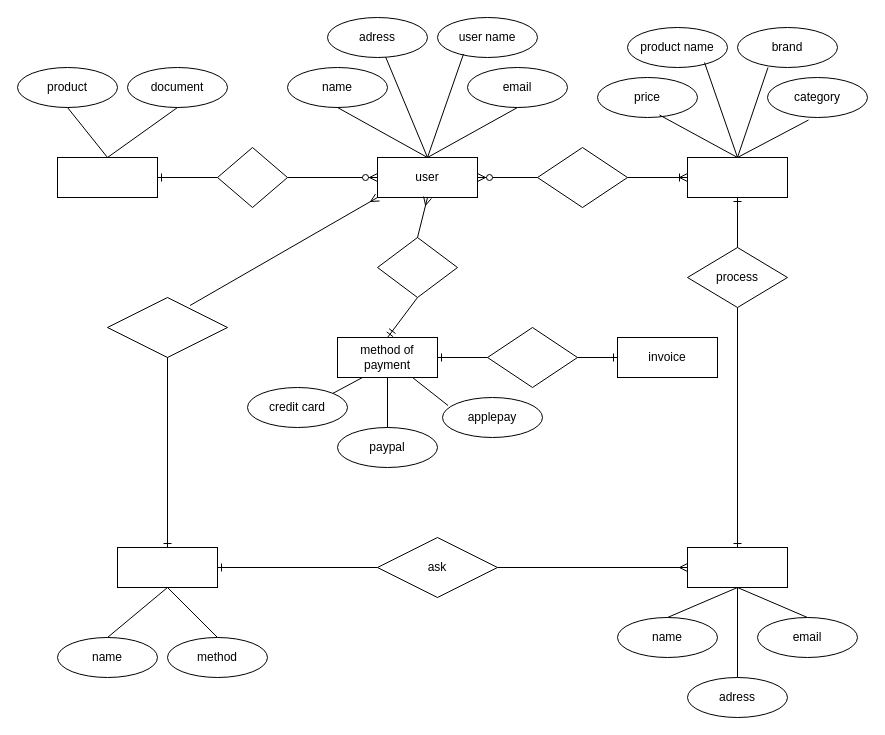
Image size: 885x735. Some labels were removed from this diagram. Here are the shapes that lost their labels. From the top down, the box of each, then its label:
(56, 156, 158, 198): review
(216, 146, 288, 208): write
(536, 146, 628, 208): order
(686, 156, 788, 198): item
(376, 236, 458, 298): pay with
(106, 296, 228, 358): shipping
(486, 326, 578, 388): create
(116, 546, 218, 588): delivery companies
(686, 546, 788, 588): companies
